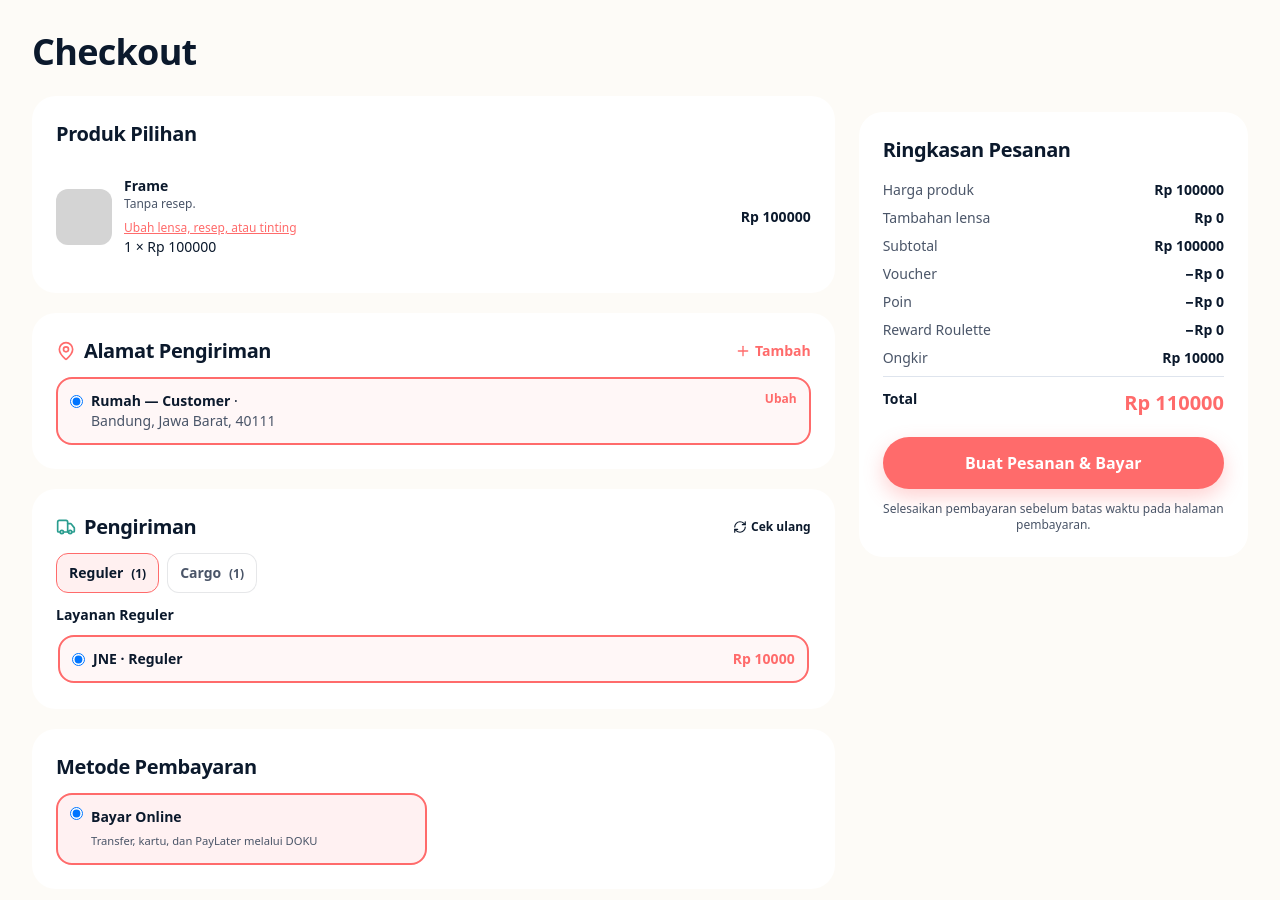
Test case: selecting a shipping type updates the exact quote and authoritative checkout total
Expected: the element with test id "checkout-total" reads "Rp 110000", [1124,389,1224,416]
Click the button with test id "shipping-type-cargo".
click(212, 573)  # box [167,553,257,593]
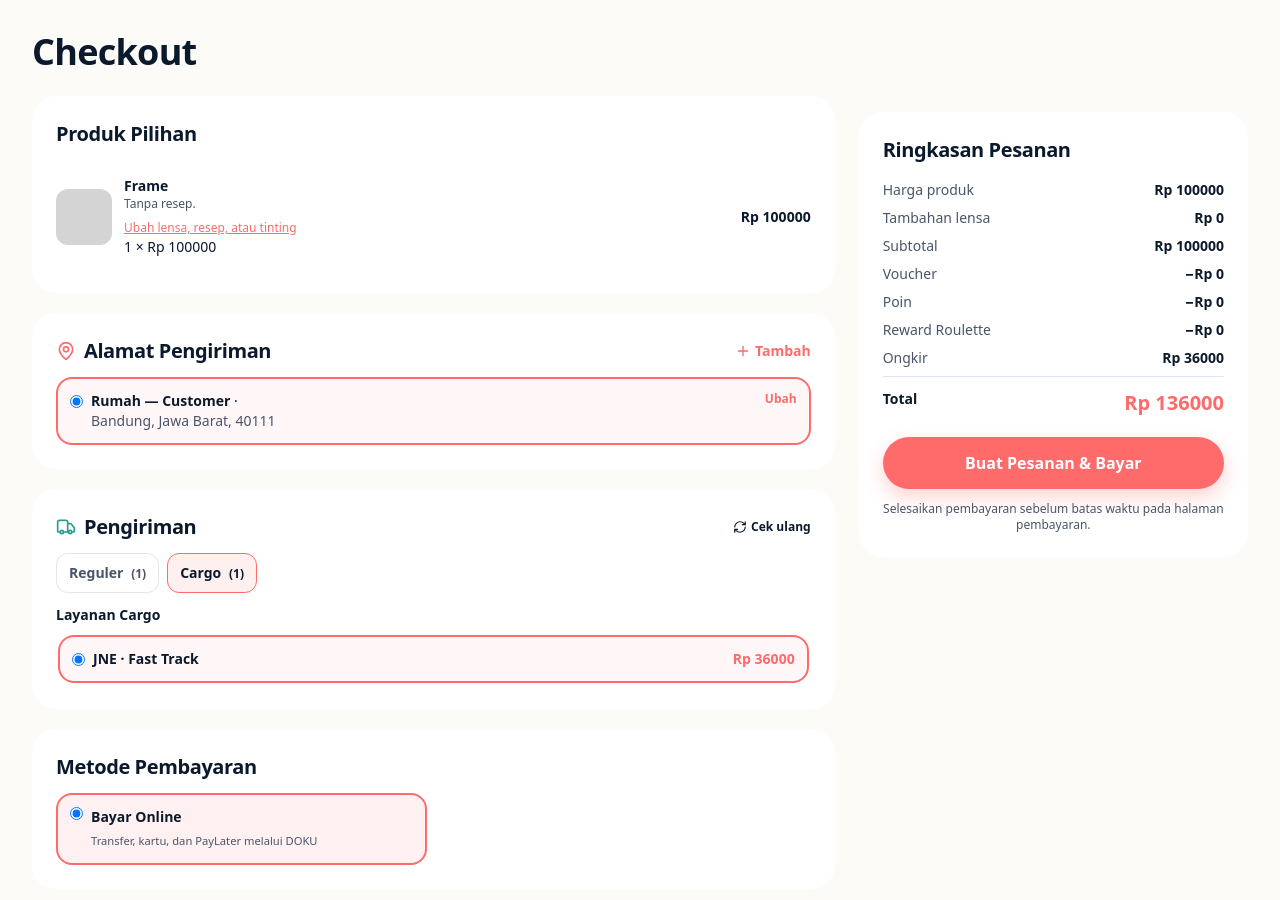
Expected: the radio button labelled "JNE · Fast Track Rp 36000" is checked, [72,653,85,666]
Now the element with test id "checkout-total" reads "Rp 136000", box [1124,389,1224,416]
